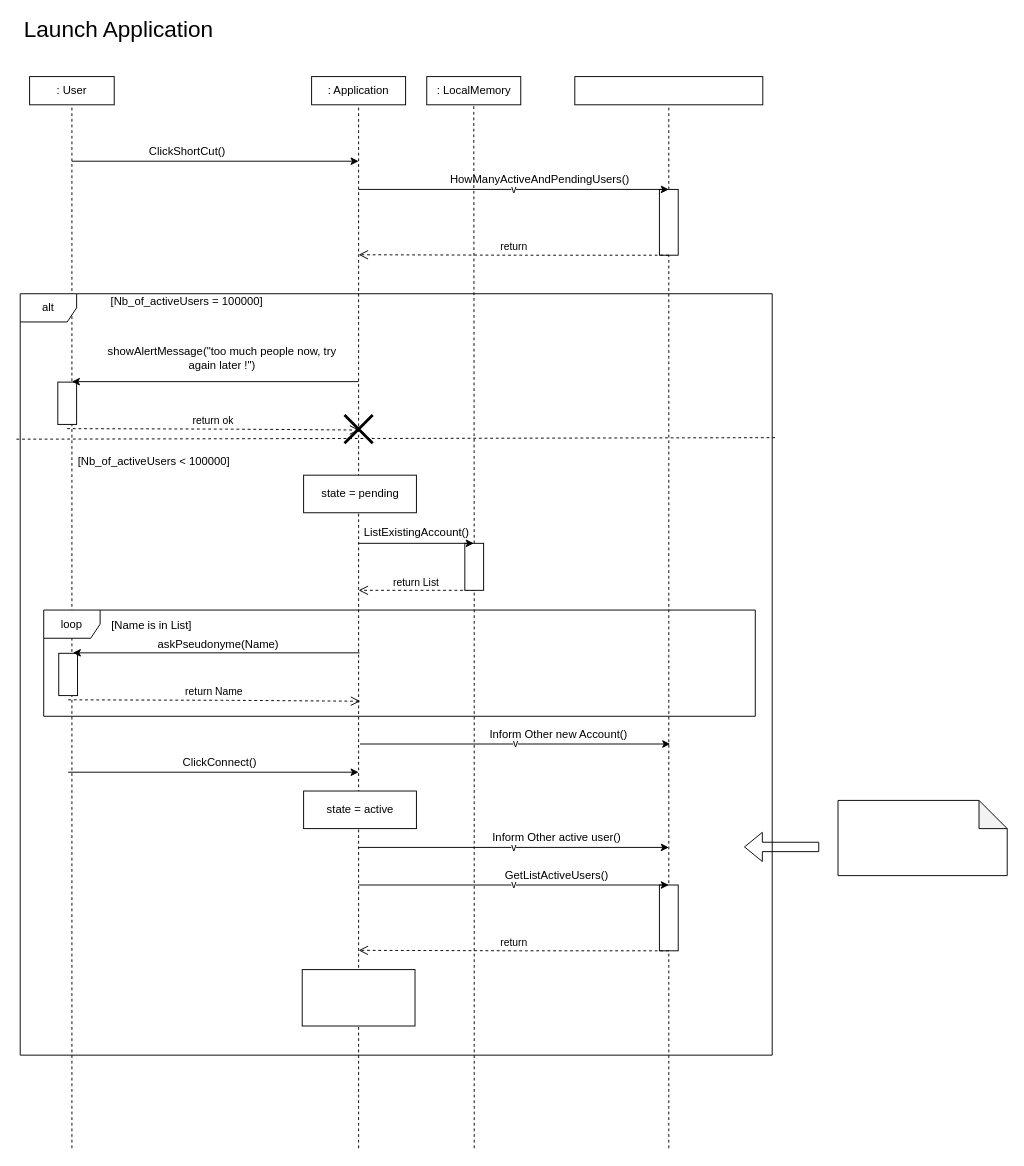
Some shapes in this 1024 by 1166 pixel diagram are drawn without their labels. Each missing label, with the centre of its shape:
": Communication System" goes at (668,90).
"open application's window with identified active users" goes at (358,997).
"to refresh list of existing accounts in local memory of other computer deployed" goes at (922,837).
